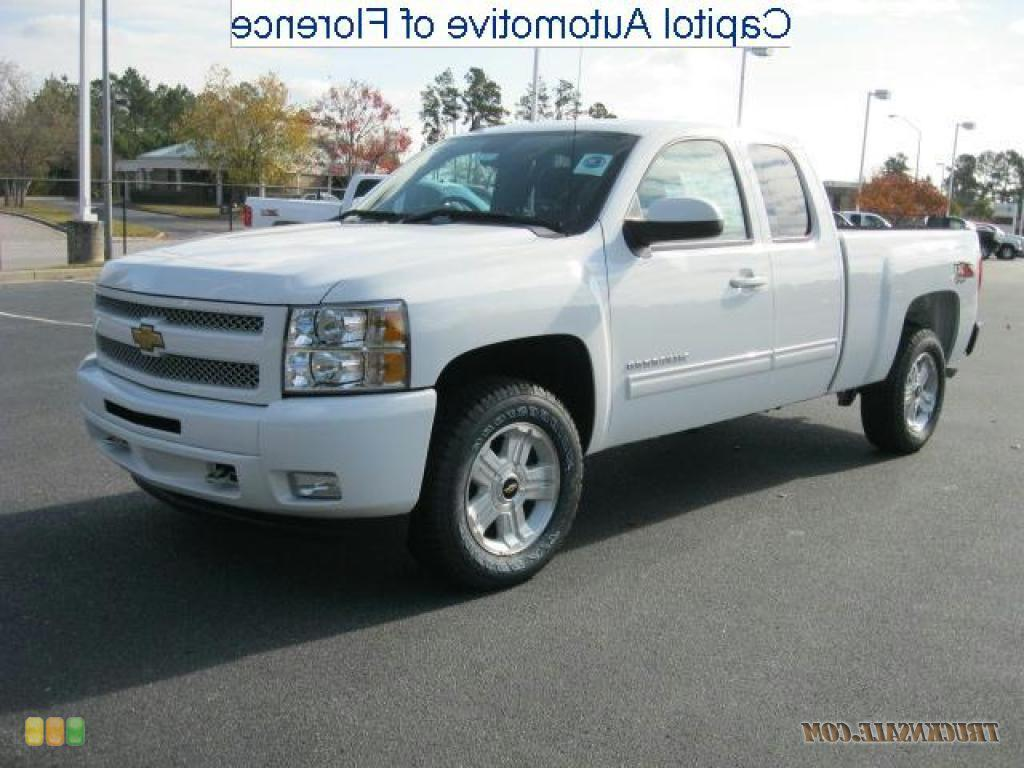Car: (35, 94, 1012, 634)
